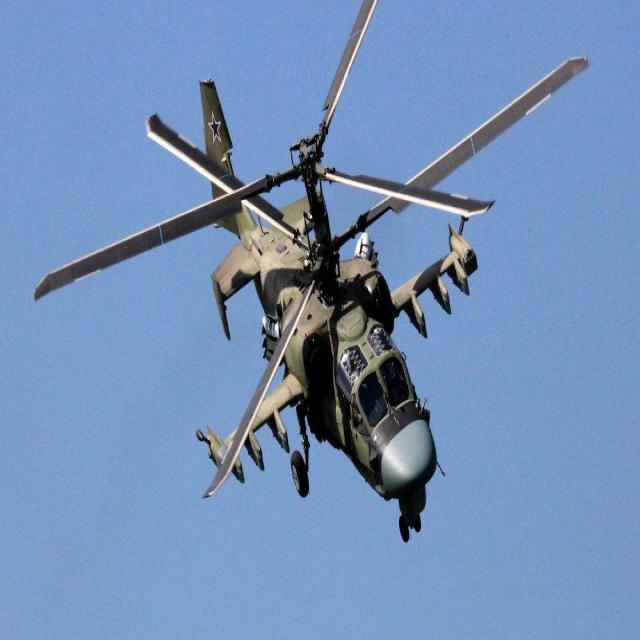MIL_HELO: (31, 16, 592, 573)
